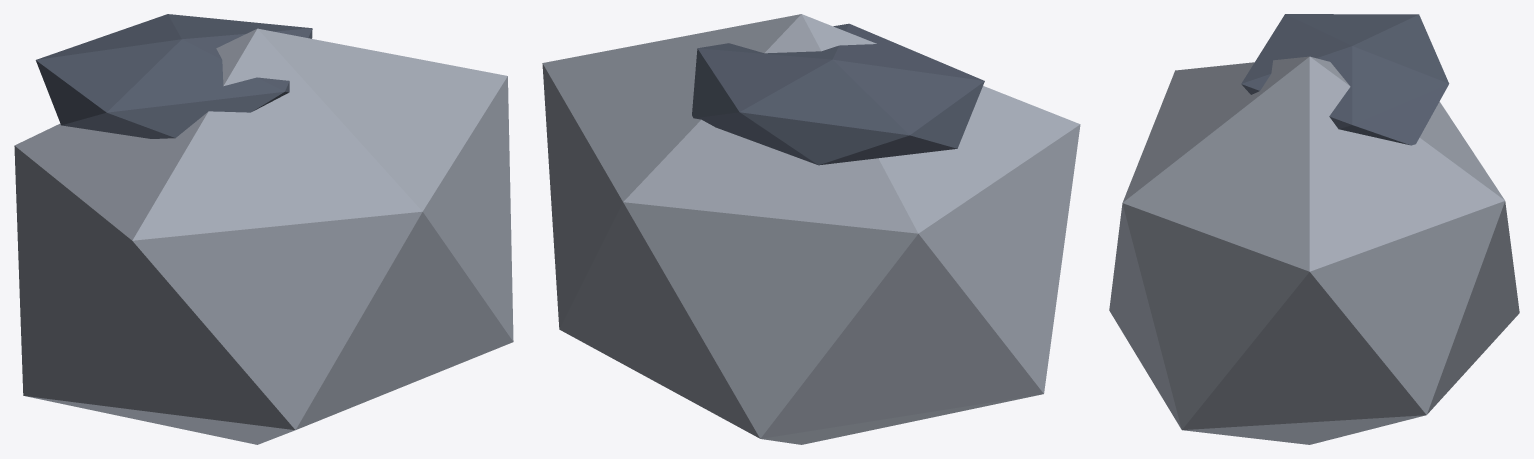
Rendered from pedra.glb.
3 views of the same model, side by side, from view 1: azimuth 30°, elevation 25°; view 2: azimuth 150°, elevation 25°; view 3: azimuth 270°, elevation 25° (orthographic). The views are drawn at different scales.
Visible parts, largest first — view 1: vulcao_pedra; view 2: vulcao_pedra; view 3: vulcao_pedra.
Part boxes in pixels (<box>): vulcao_pedra: <box>14,14,513,444</box>; vulcao_pedra: <box>542,14,1080,444</box>; vulcao_pedra: <box>1109,14,1519,444</box>.
Size of the model in its own units: 0.7353 by 0.6037 by 0.5782.
